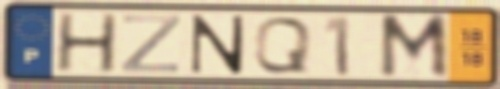1: (323, 14, 353, 78)
H: (52, 11, 120, 75)
M: (377, 12, 452, 82)
N: (187, 13, 248, 76)
Q: (250, 15, 315, 76)
Z: (118, 12, 184, 75)
